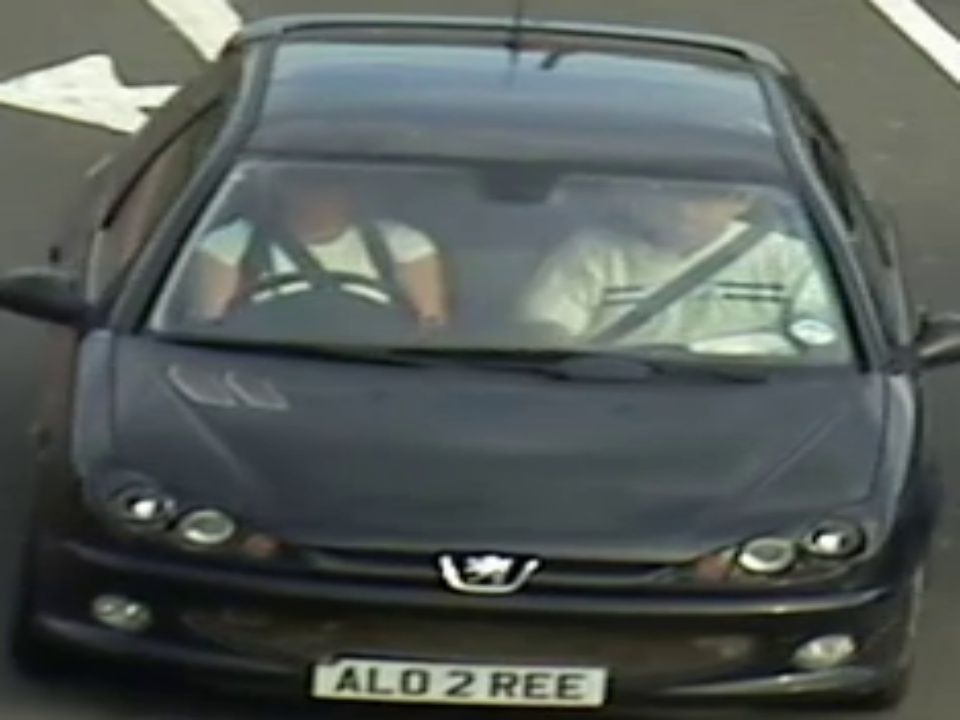TWO: (198, 152, 852, 367)
